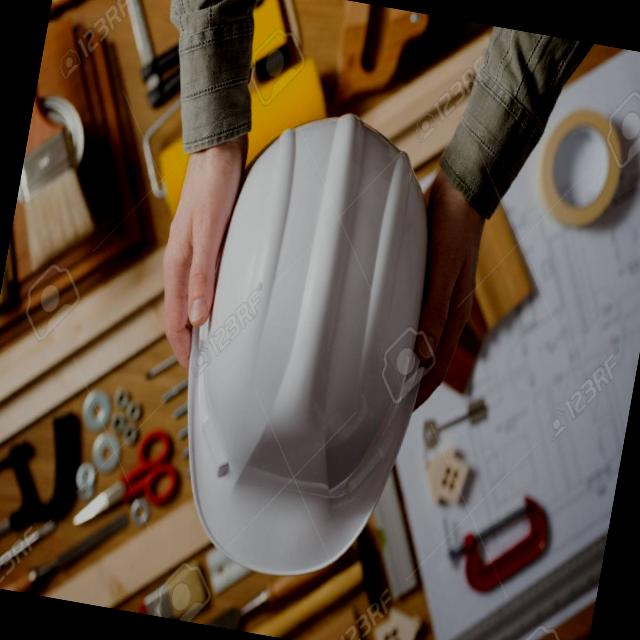helmet: (166, 104, 478, 561)
